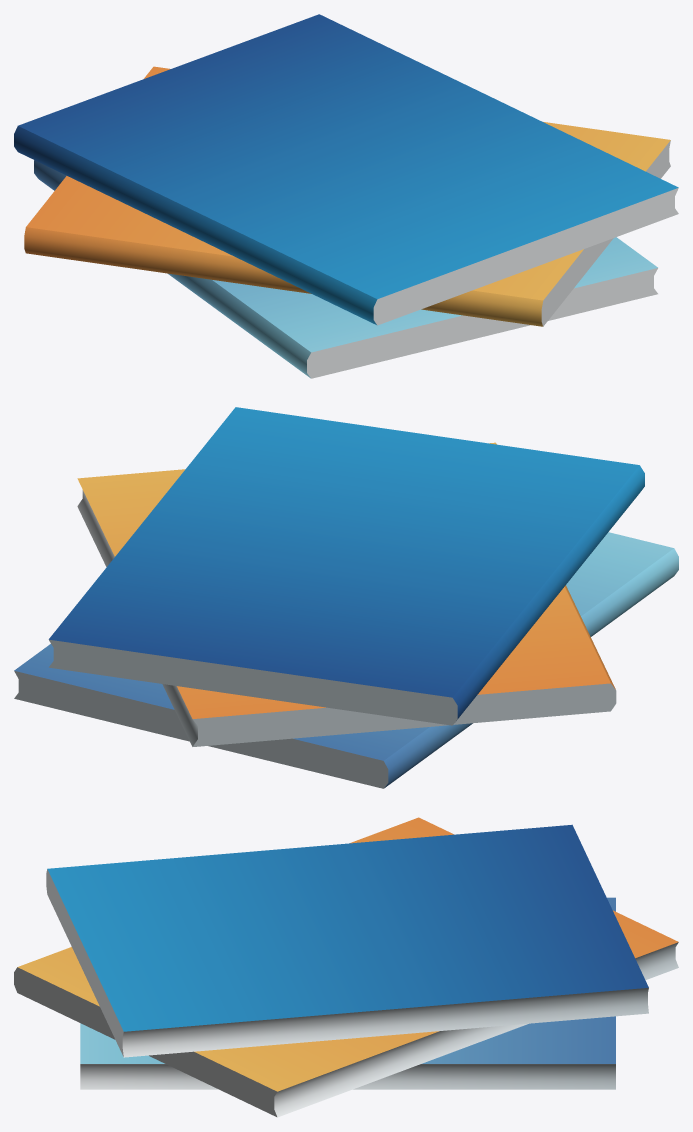
The model's file is comicbooks_stacked.glb.
3 views of the same model, one above another, from view 1: azimuth 30°, elevation 25°; view 2: azimuth 150°, elevation 25°; view 3: azimuth 270°, elevation 25° (orthographic). The views are drawn at different scales.
Parts seen in each view (by area): view 1: comicbooks_stacked; view 2: comicbooks_stacked; view 3: comicbooks_stacked.
Boxes of the visible parts, x1=… form: comicbooks_stacked: x1=14, y1=14, x2=678, y2=378; comicbooks_stacked: x1=14, y1=407, x2=678, y2=788; comicbooks_stacked: x1=14, y1=817, x2=678, y2=1117.
Size of the model in its own units: 0.8406 by 0.1113 by 0.8561.
Materials: 1 (1 with a texture image).
